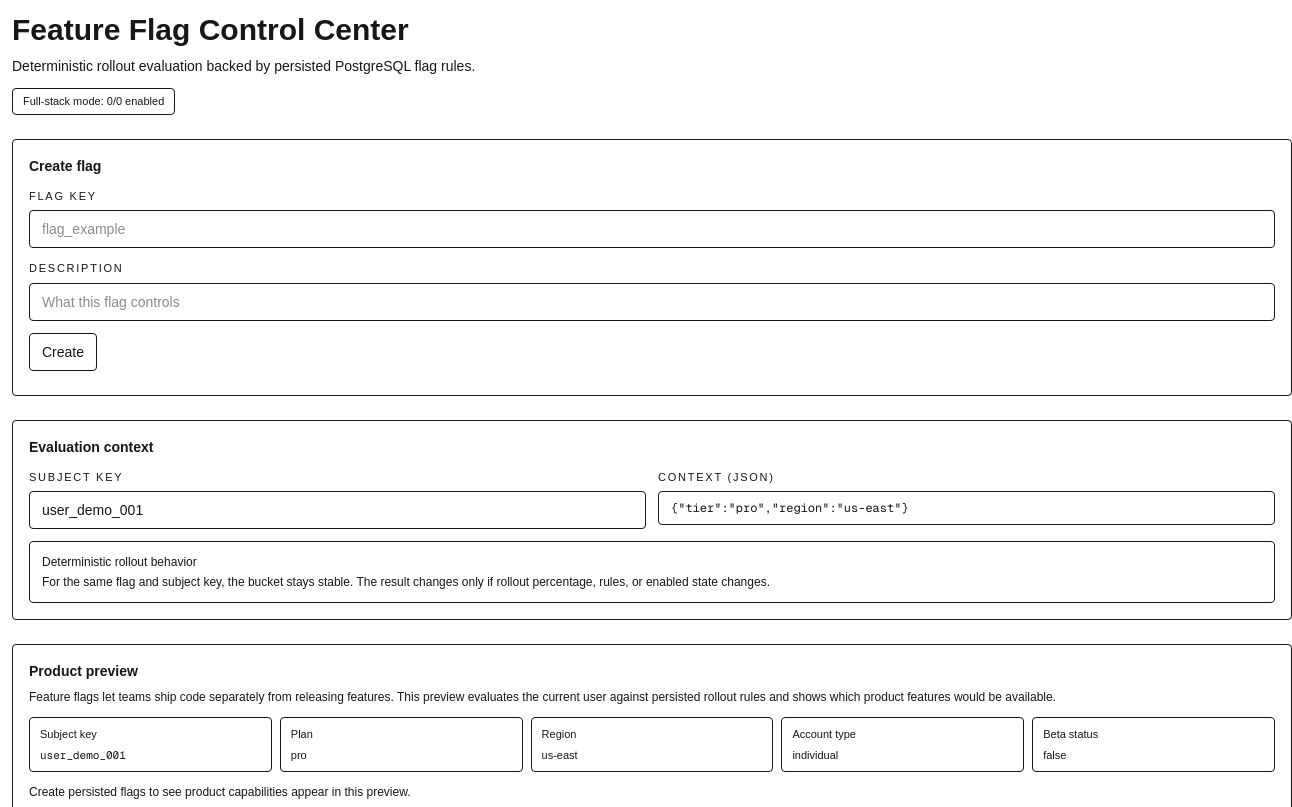
FlagsControlCenter › shows field-level create validation errors
The width and height of the screenshot is (1292, 807).
In the field labelled "Flag key": (652, 229) x1=29 y1=210 x2=1275 y2=248, type "Bad Key!"
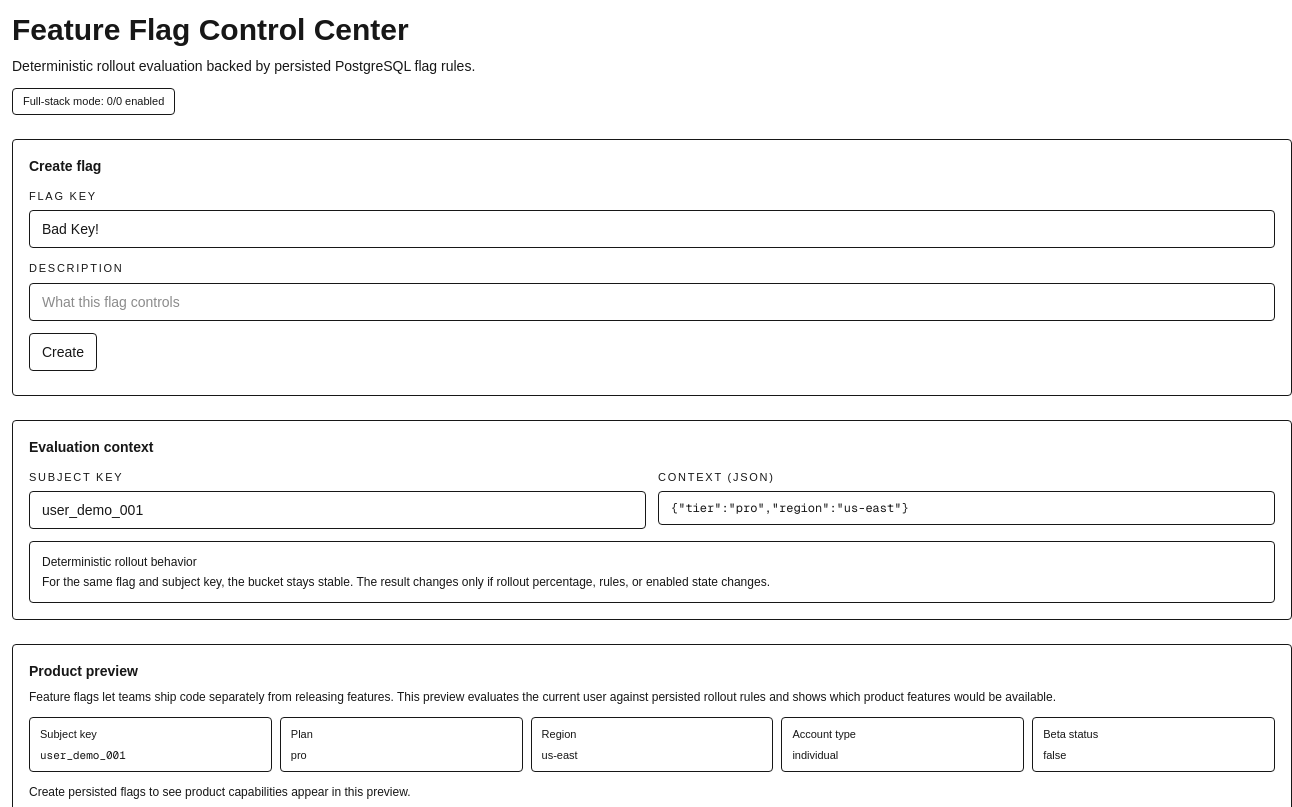
Click the button "Create": (63, 352) x1=29 y1=332 x2=97 y2=370
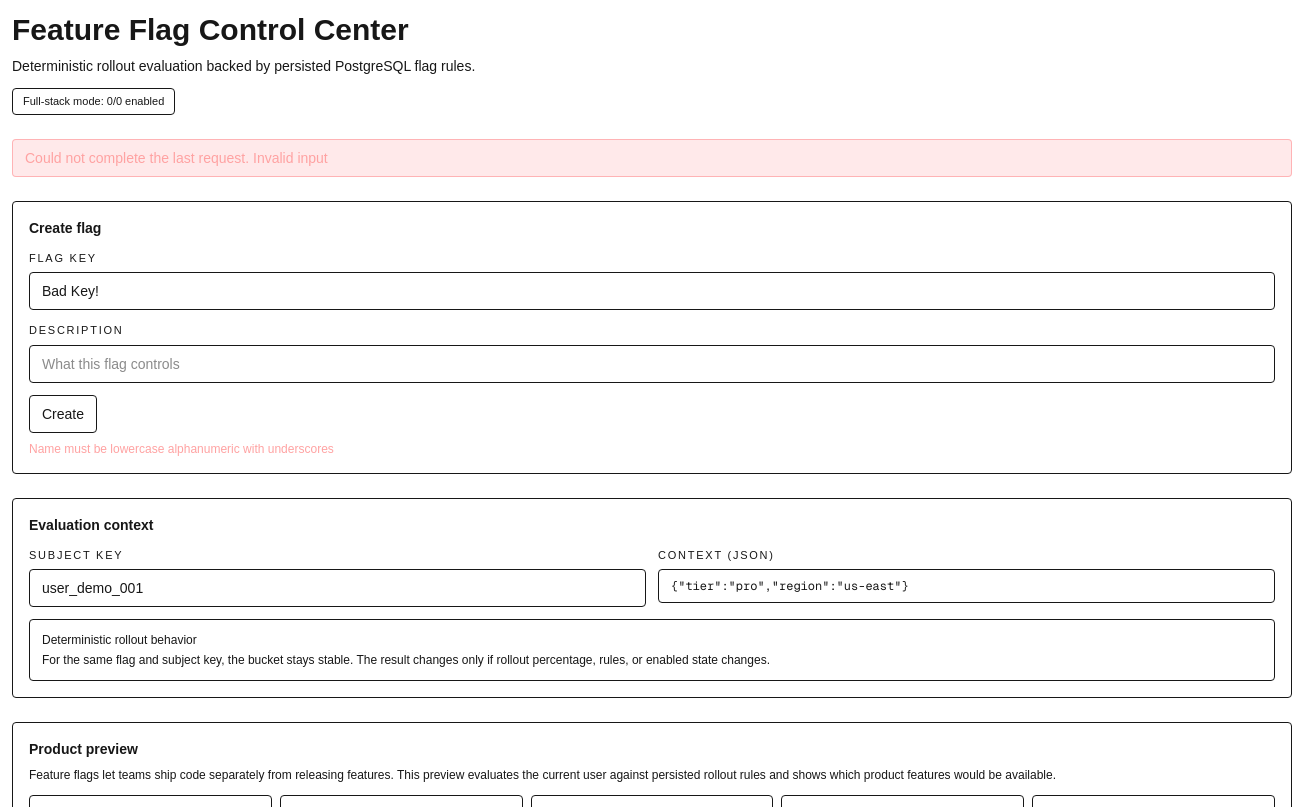
Result: the text "Name must be lowercase alphanumeric with underscores" is shown at x1=29 y1=442 x2=334 y2=456
